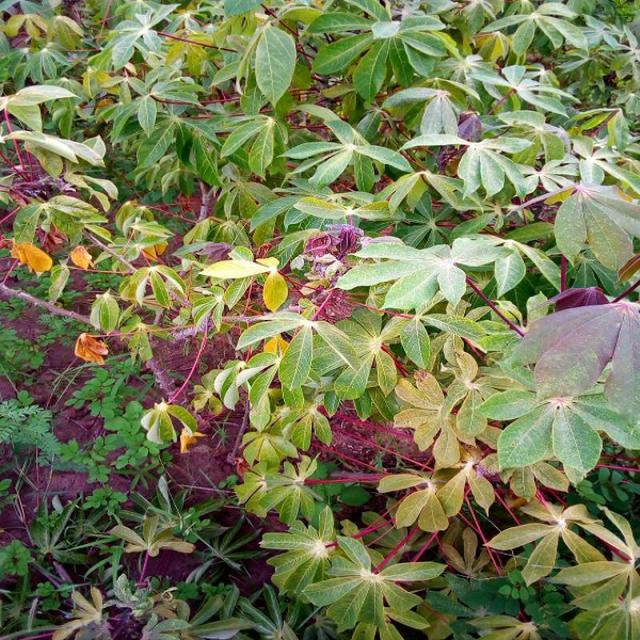cassava leaf: (0, 0, 638, 638), (477, 298, 638, 487)
